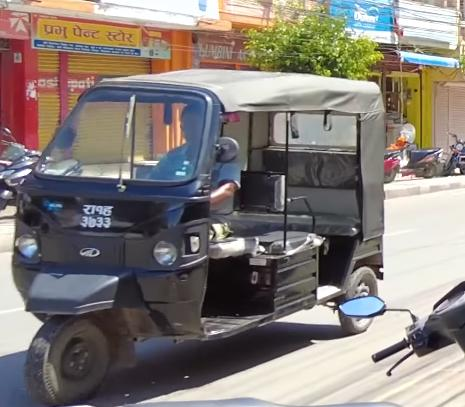e-rickshaw: (7, 64, 387, 407)
